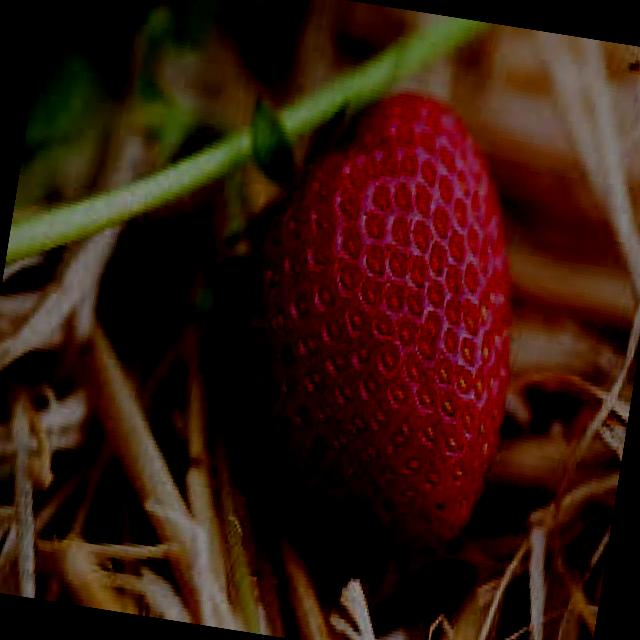Strawberry: (195, 70, 553, 552)
